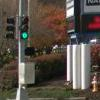Traffic light: (3, 10, 30, 43)
